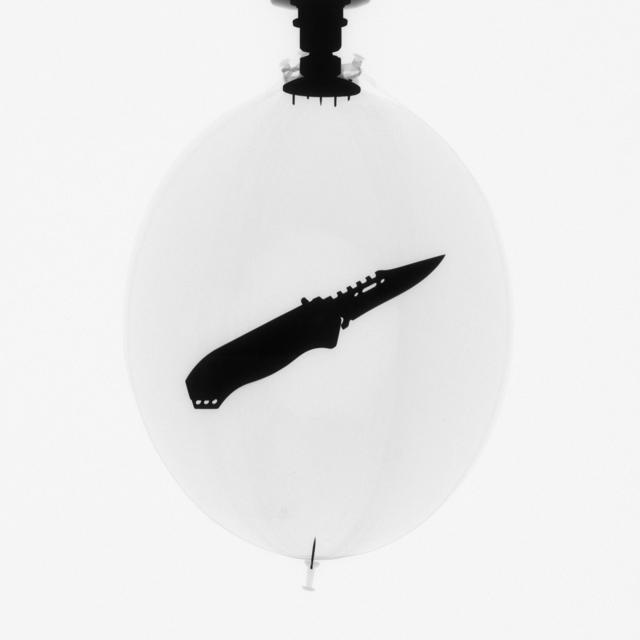knife: (187, 242, 449, 420)
